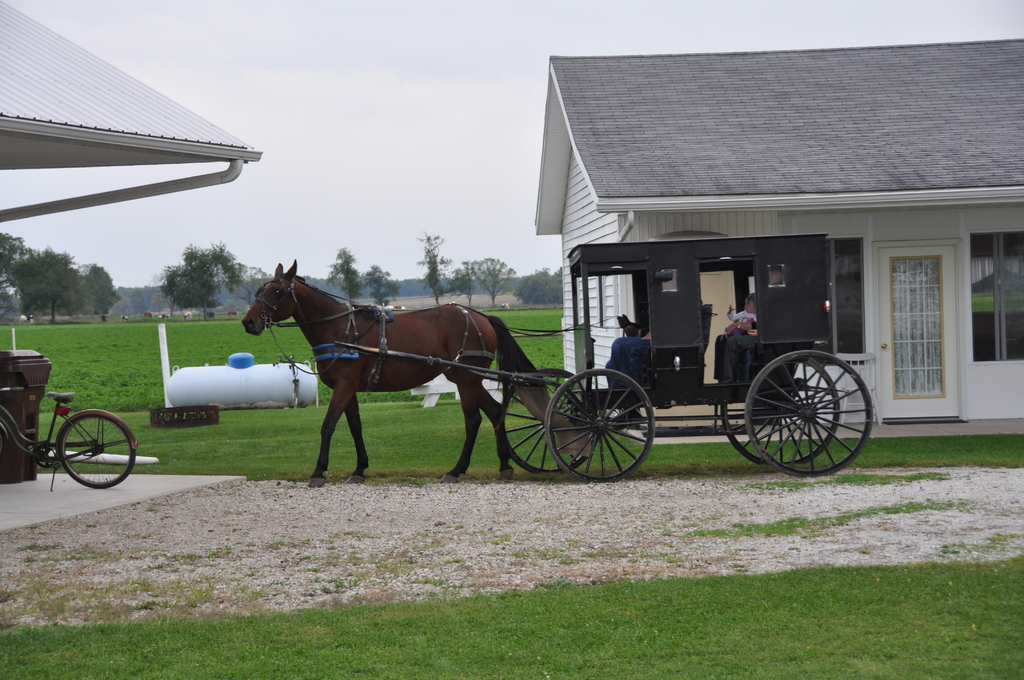horse: (241, 258, 543, 487)
